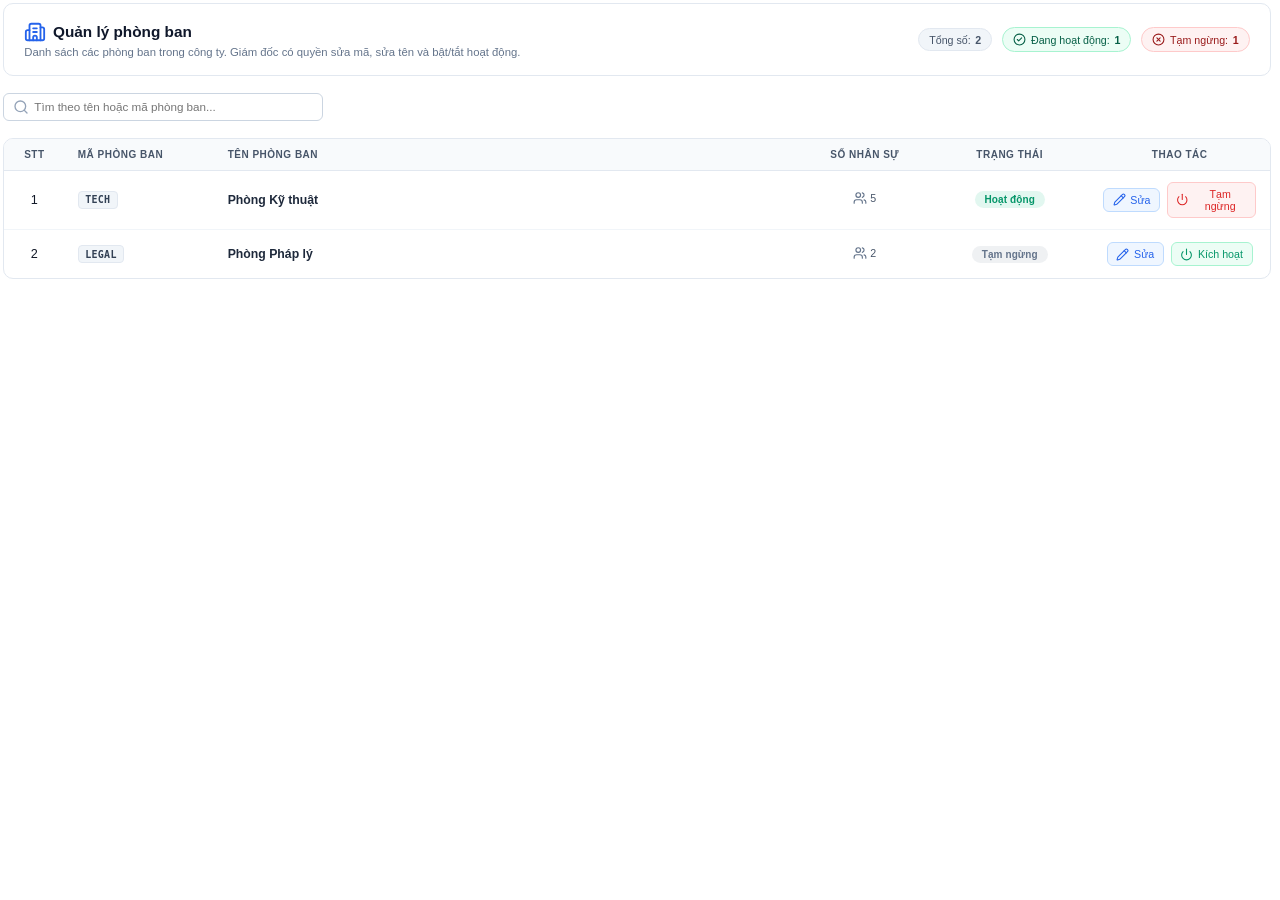
Test case: DepartmentManagement component › allows director to edit department code and name via modal
The width and height of the screenshot is (1280, 900).
expect the text "Phòng Kỹ thuật" is shown: met, box x1=228 y1=193 x2=318 y2=207
Step 1. Click the button with aria-label "Sửa phòng ban Phòng Kỹ thuật" → (1132, 200), box x1=1103 y1=188 x2=1160 y2=212
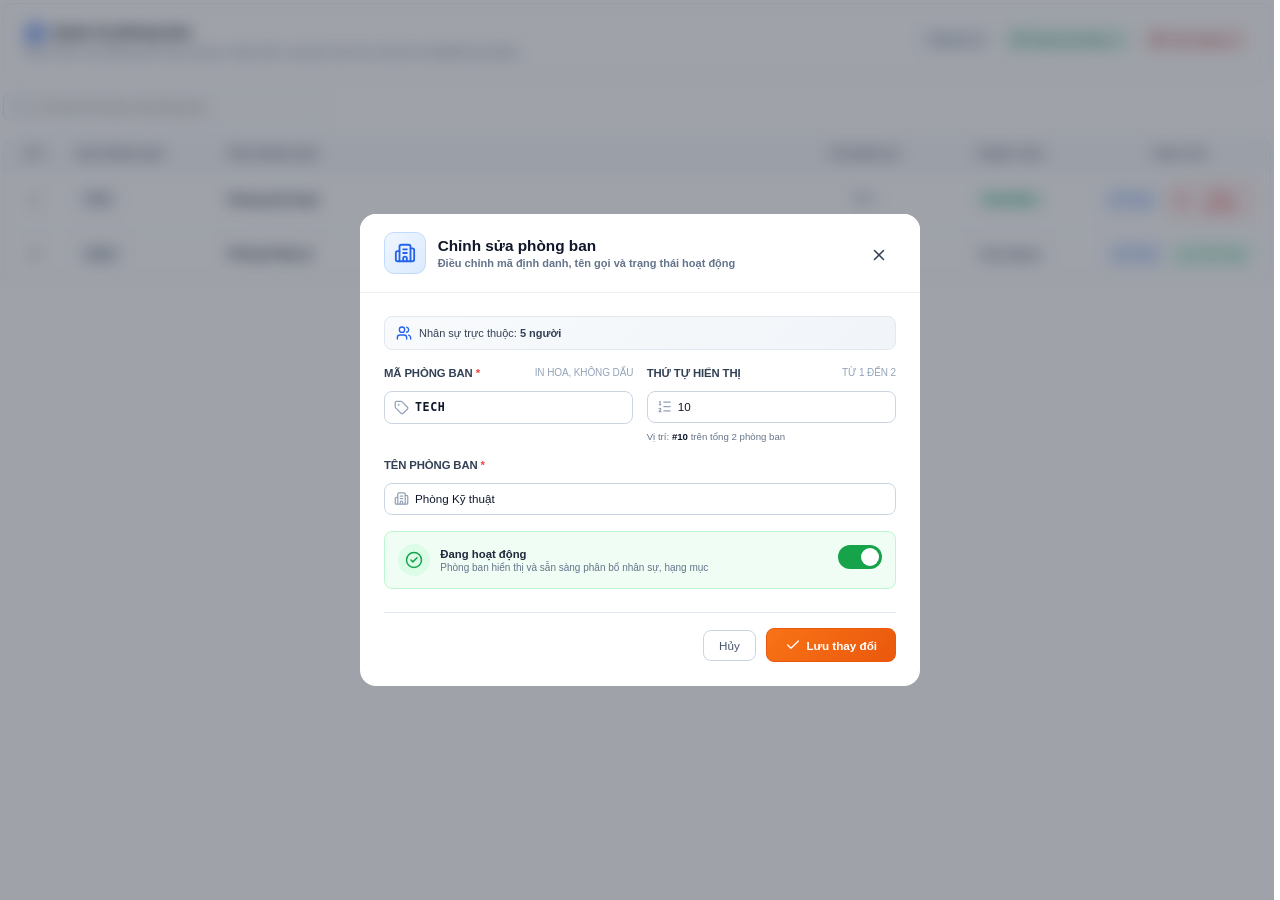
expect the heading "Chỉnh sửa phòng ban" is shown: met, box x1=384 y1=232 x2=735 y2=278
expect the field labelled "Mã phòng ban" holds "TECH": met
expect the field labelled "Tên phòng ban" holds "Phòng Kỹ thuật": met, box x1=384 y1=482 x2=896 y2=515
Step 2. Replace the text in the field labelled "Mã phòng ban" with "tech_new" → (509, 407), box x1=384 y1=390 x2=633 y2=424
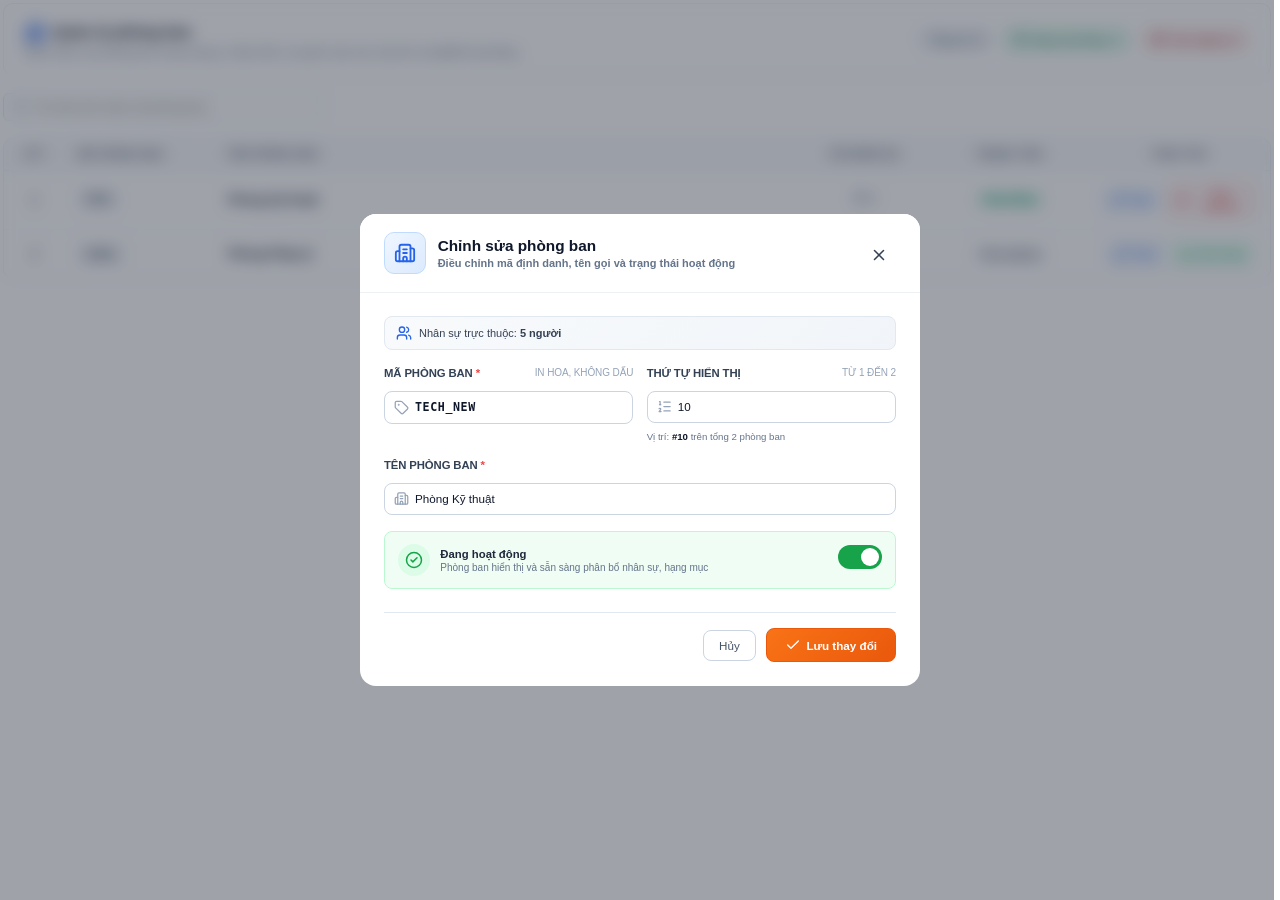
Step 3. Replace the text in the field labelled "Tên phòng ban" with "Phòng Kỹ thuật & Đo đạc" → (640, 499), box x1=384 y1=482 x2=896 y2=515
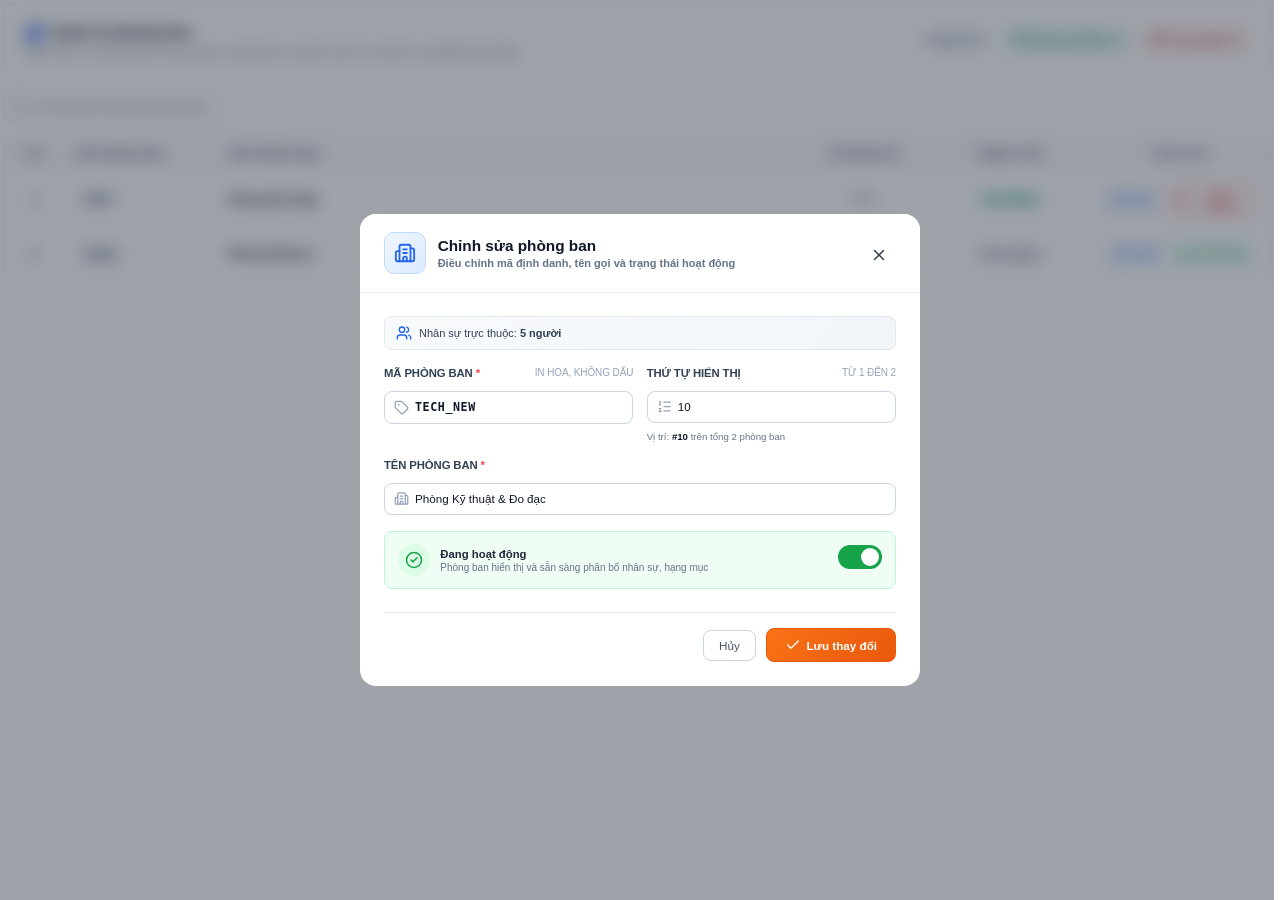
Step 4. Submit the form named "Lưu thay đổi", box x1=384 y1=313 x2=896 y2=666
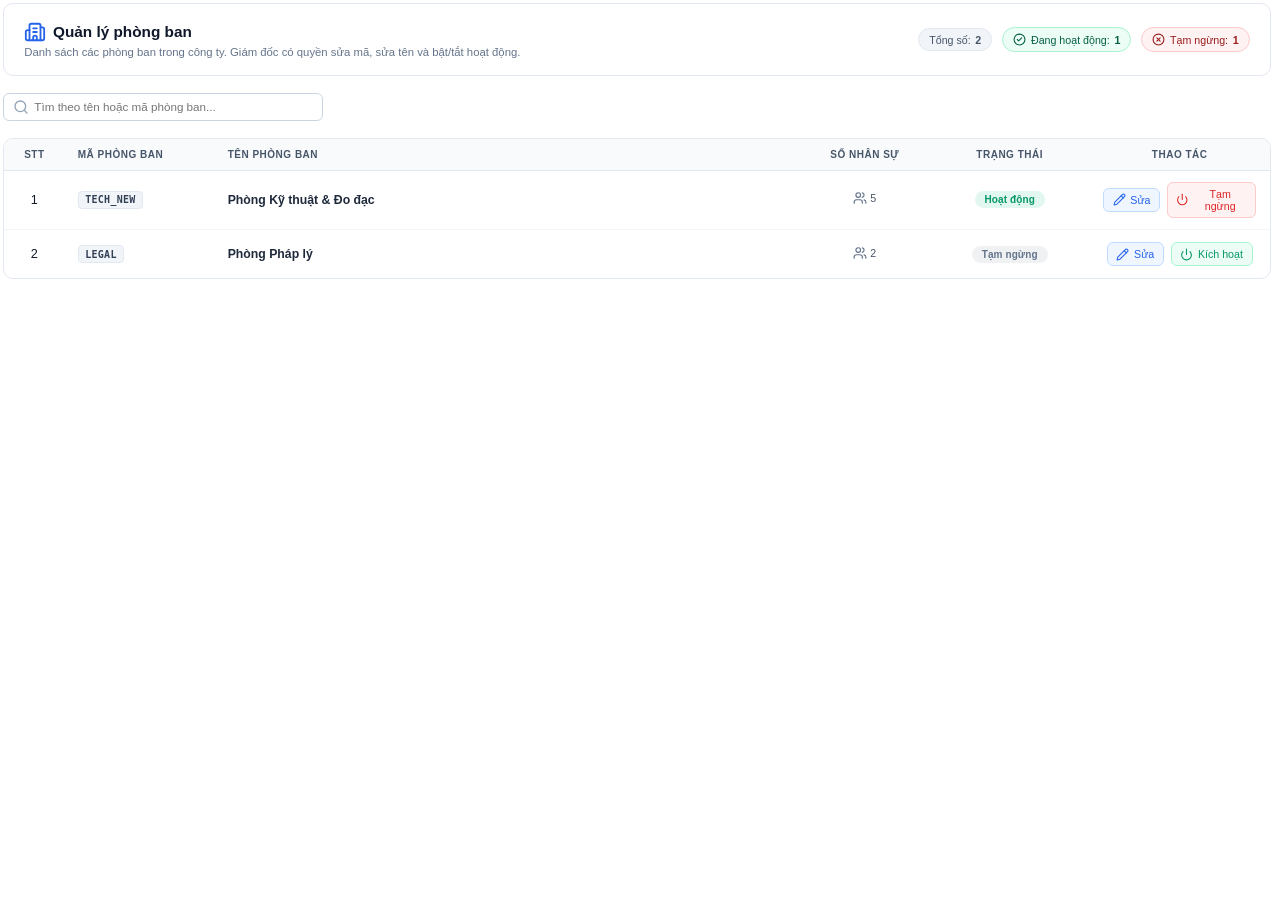
expect the text "Phòng Kỹ thuật & Đo đạc" is shown: met, box x1=228 y1=193 x2=375 y2=207
